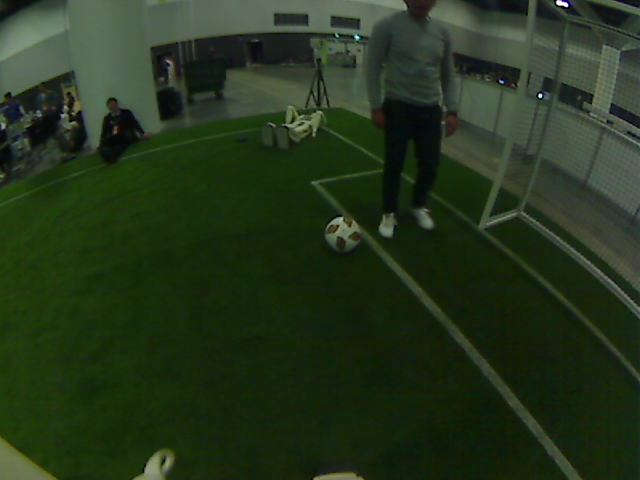ball: (320, 212, 360, 252)
goalpost: (459, 168, 499, 228)
robot: (264, 105, 291, 145)
